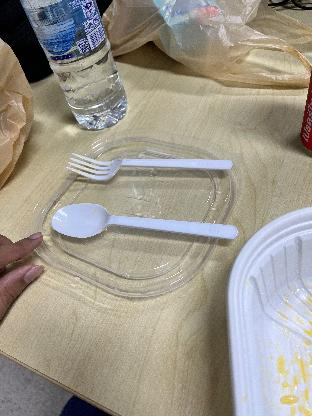Others: (50, 199, 238, 250), (65, 149, 237, 183)
Plastic Bottle: (24, 0, 128, 132)
